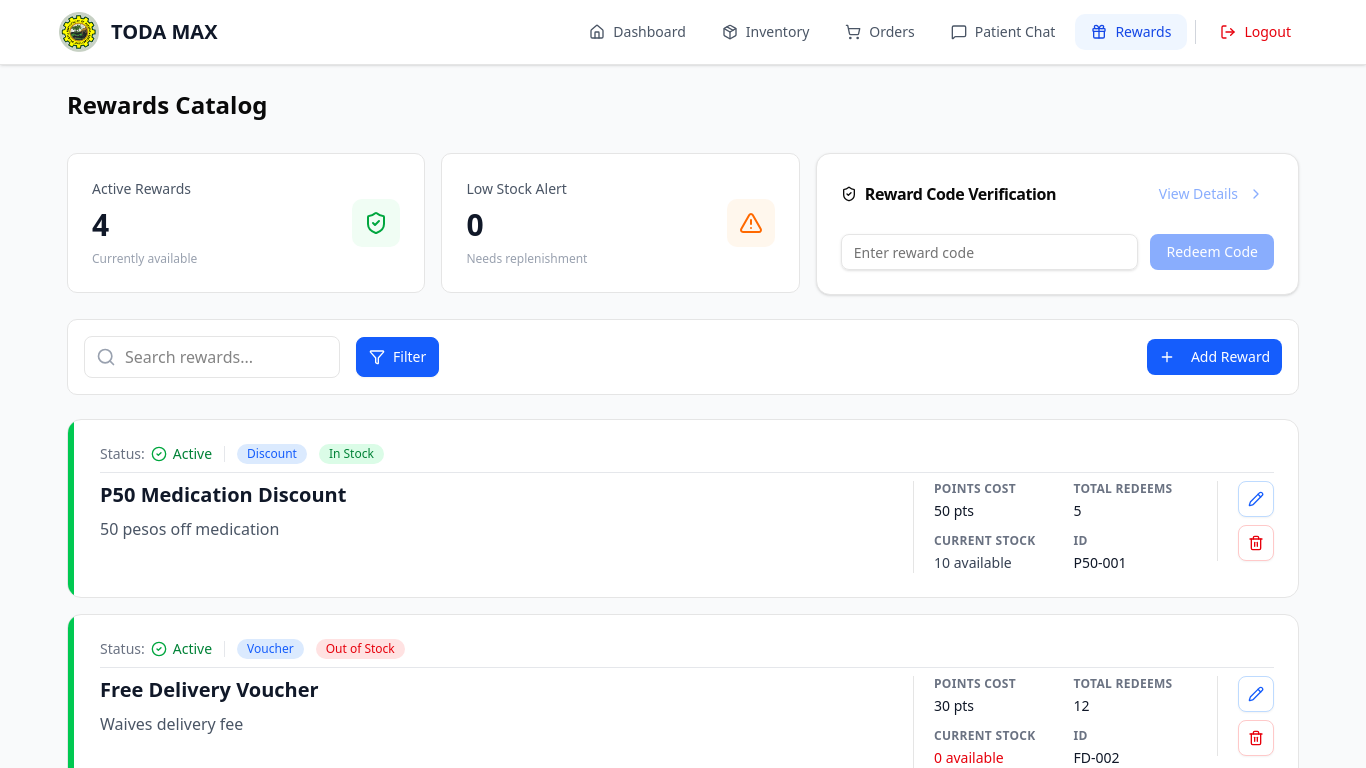
Test: Rewards Page › can search and filter rewards
Expected: the heading "P50 Medication Discount" is shown, [100,481,346,508]
Note: Type in the search box - search for "P50" which only matches first reward
Type "P50" into the field with placeholder "Search rewards...".
click(212, 357); type("P50")  # box [84,336,340,378]
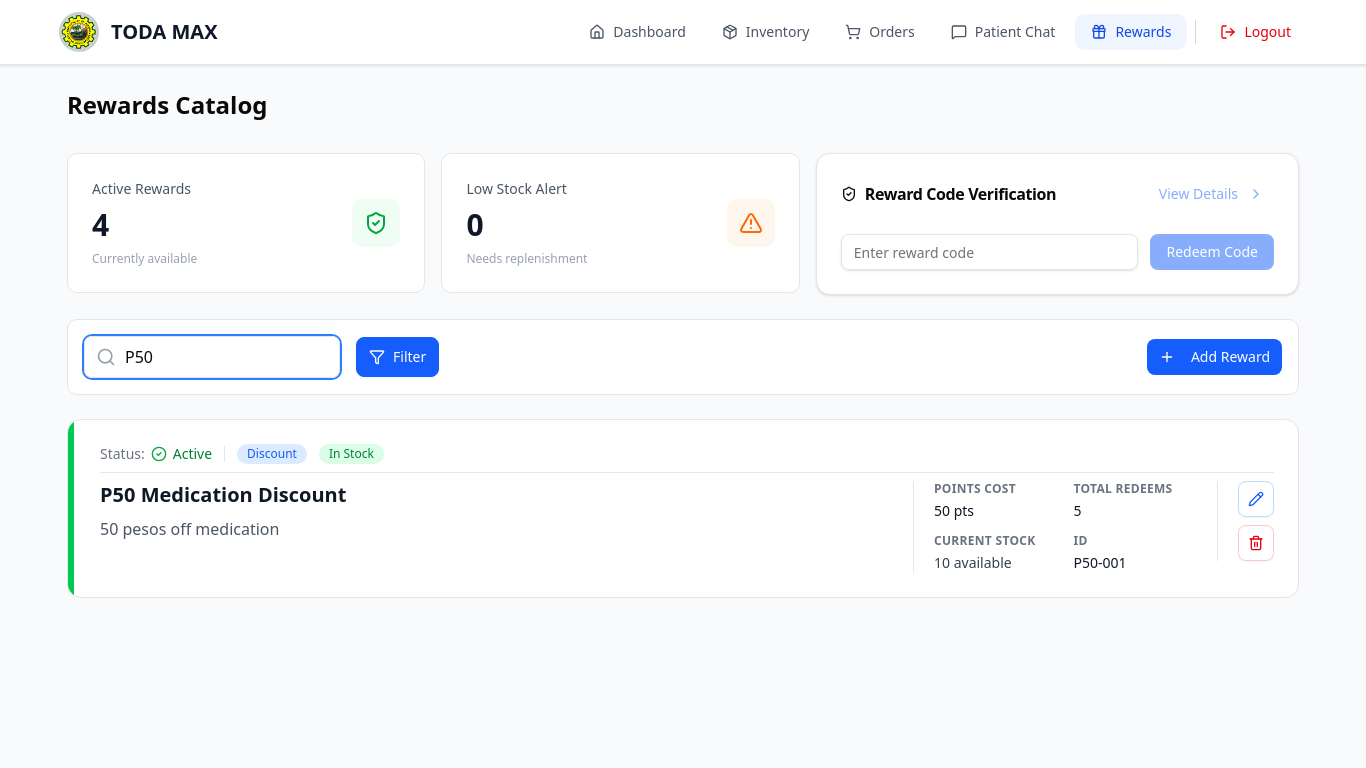
Expected: the heading "P50 Medication Discount" is shown, [100,481,346,508]
Now the heading "Free Delivery Voucher" is gone
